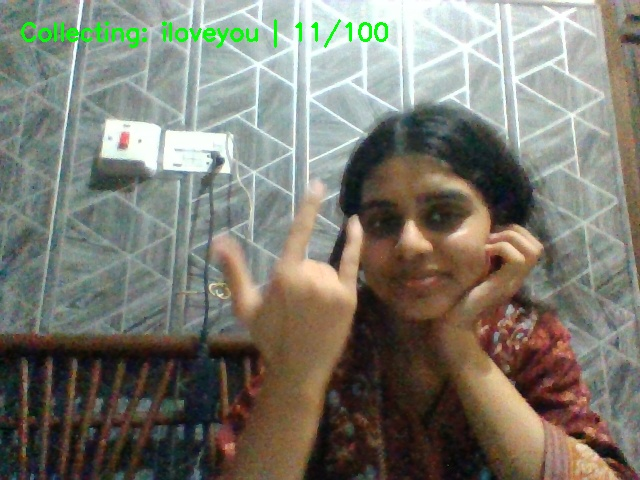iloveyou: (205, 184, 386, 382)
